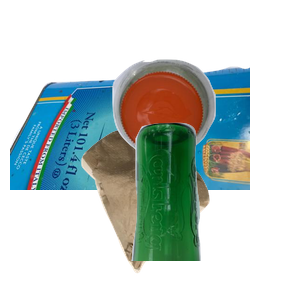glass: (129, 120, 300, 300)
metal: (10, 64, 250, 244)
plastic: (110, 57, 300, 205)
trash: (79, 123, 281, 300)
